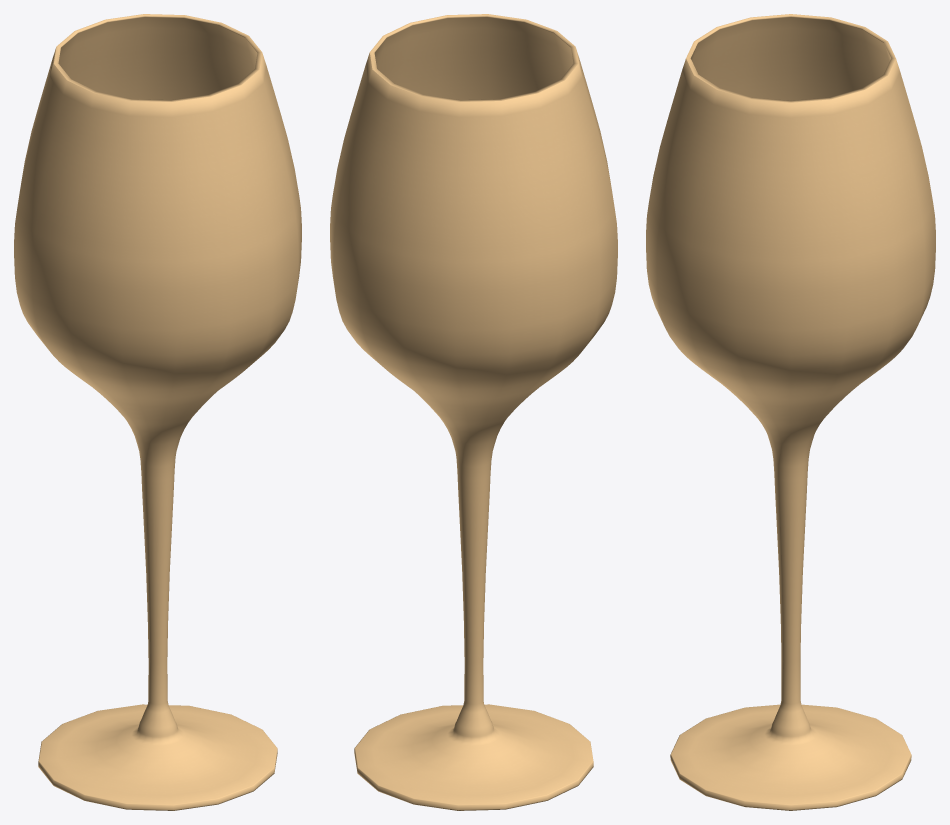
The model's file is cup.glb.
The picture shows the model from 3 angles, left to right: view 1: azimuth 30°, elevation 25°; view 2: azimuth 150°, elevation 25°; view 3: azimuth 270°, elevation 25°; orthographic projection.
Visible parts, largest first — view 1: Wine glass; view 2: Wine glass; view 3: Wine glass.
Boxes of the visible parts, box(x1,y1,x2,y2) form: Wine glass: box(14, 14, 301, 810); Wine glass: box(330, 14, 617, 810); Wine glass: box(646, 14, 935, 810).
Size of the model in its own units: 1.97 by 5.26 by 1.97.
Materials: 2 (1 with a texture image).
